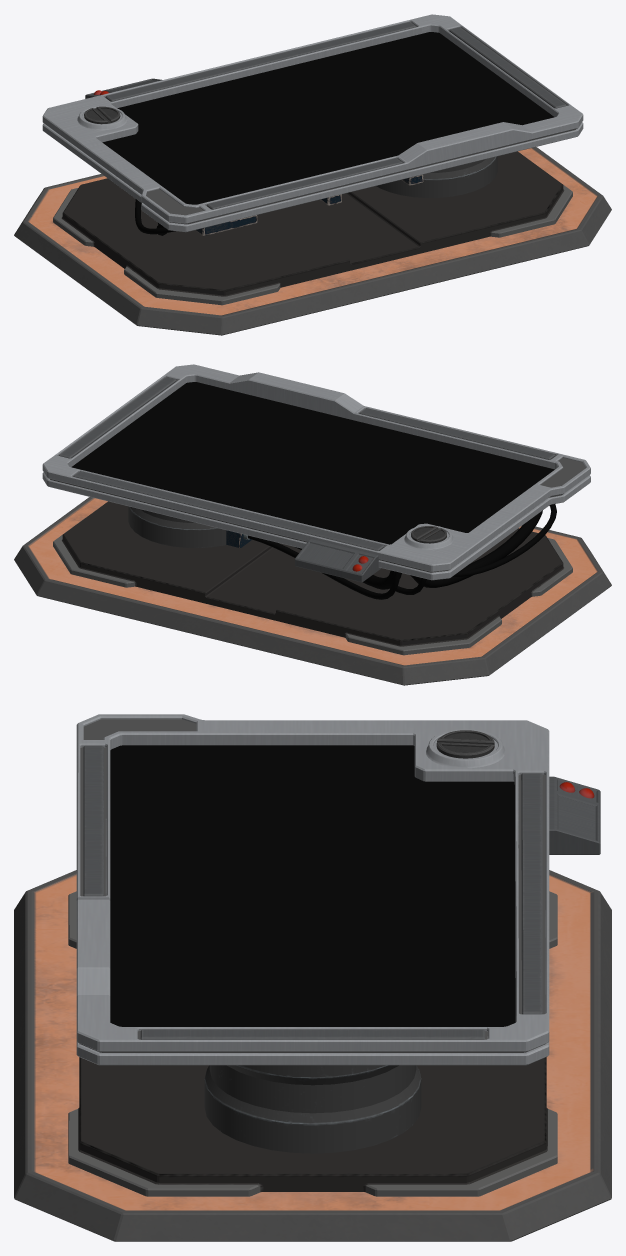
The model's file is BattleTable.fbx.
3 views of the same model, one above another, from view 1: azimuth 30°, elevation 25°; view 2: azimuth 150°, elevation 25°; view 3: azimuth 270°, elevation 25° (orthographic). The views are drawn at different scales.
Parts seen in each view (by area): view 1: Battle_Table, Desk, Rotary; view 2: Battle_Table, Desk, Cables, Rotary; view 3: Battle_Table, Desk, Rotary.
Boxes of the visible parts, x1,y1,x2,y2 form: Battle_Table: (14,14,611,335); Desk: (102,32,554,204); Rotary: (84,106,120,124); Battle_Table: (14,364,611,685); Desk: (71,382,554,544); Cables: (243,504,556,599); Rotary: (411,526,446,543); Battle_Table: (14,714,611,1241); Desk: (110,745,515,1026); Rotary: (436,730,494,758).
Size of what is drawn, in the model's own units: 308 by 72.19 by 208.
4 materials, 2 textured.
